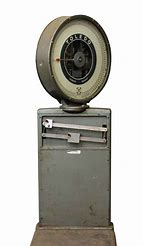Industrial Scale: (31, 15, 118, 245)
